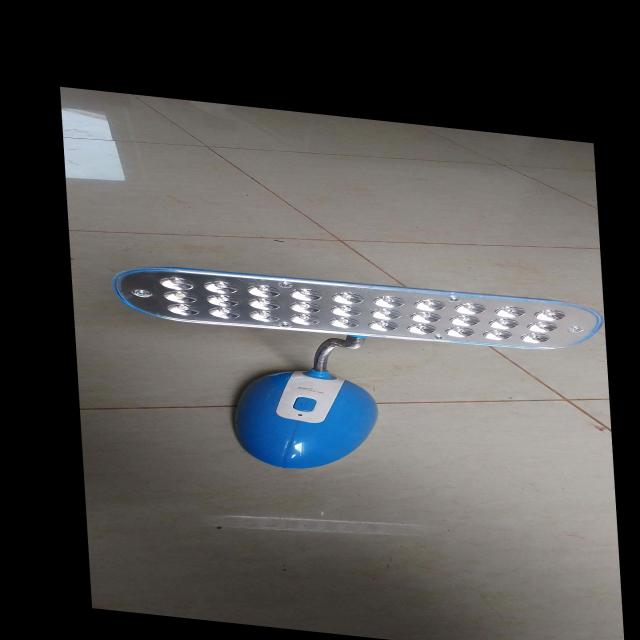Lantern: (99, 242, 611, 512)
